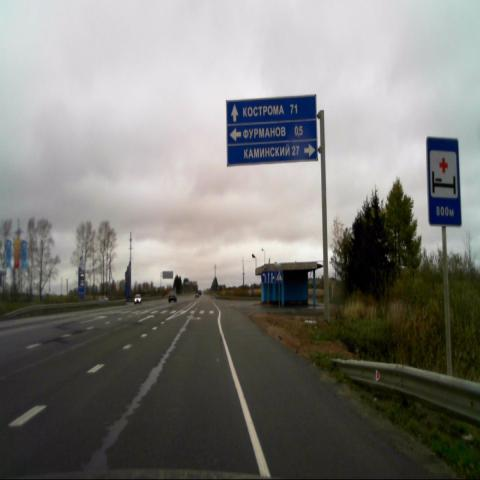7_2: (426, 135, 462, 227)
